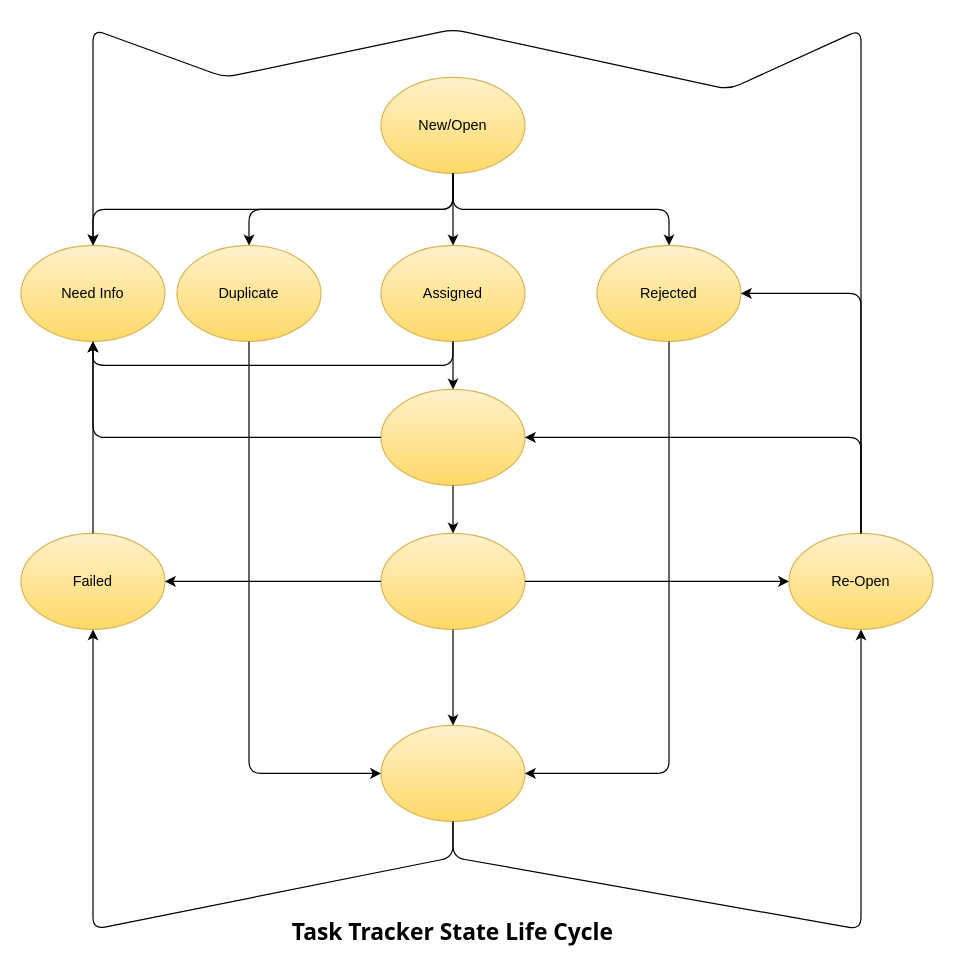
Image size: 954x977. Some labels were removed from this diagram. The shapes that lost their labels are listed below. From the top down, each one's centre as x and y in pixels, then its label:
At (x=452, y=436): "In Progress".
At (x=452, y=580): "Complete/Resolved".
At (x=452, y=772): "Closed".
